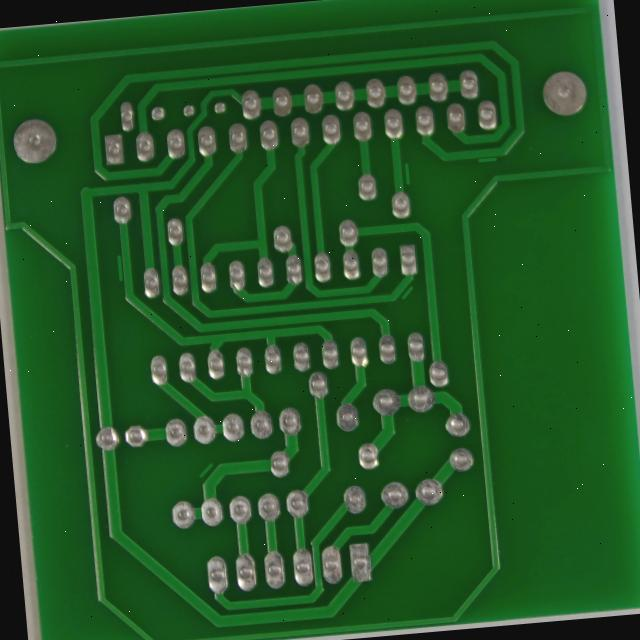spurious_copper: (121, 185, 141, 224), (216, 426, 244, 451), (453, 79, 475, 110), (541, 65, 571, 87), (453, 217, 476, 245)
